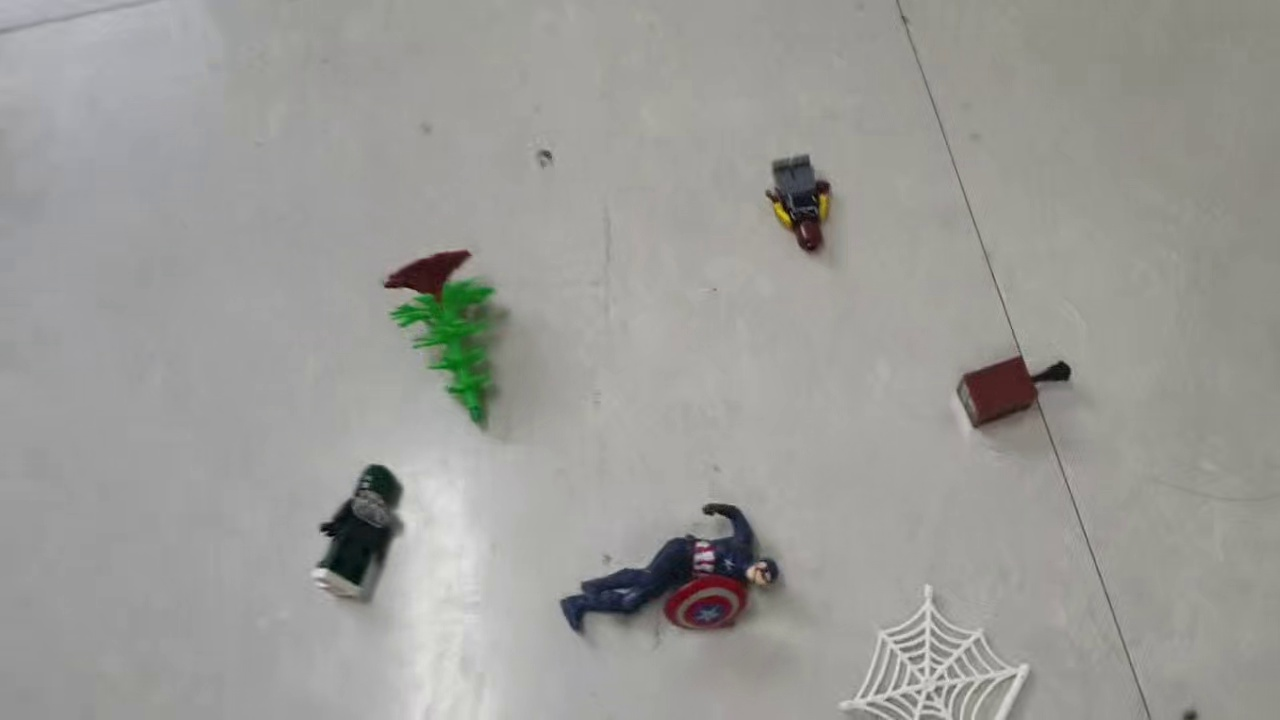box: (956, 352, 1075, 428)
people: (556, 499, 783, 644), (312, 462, 407, 606), (764, 151, 836, 256)
tree: (383, 249, 510, 431)
web: (836, 580, 1034, 720)
